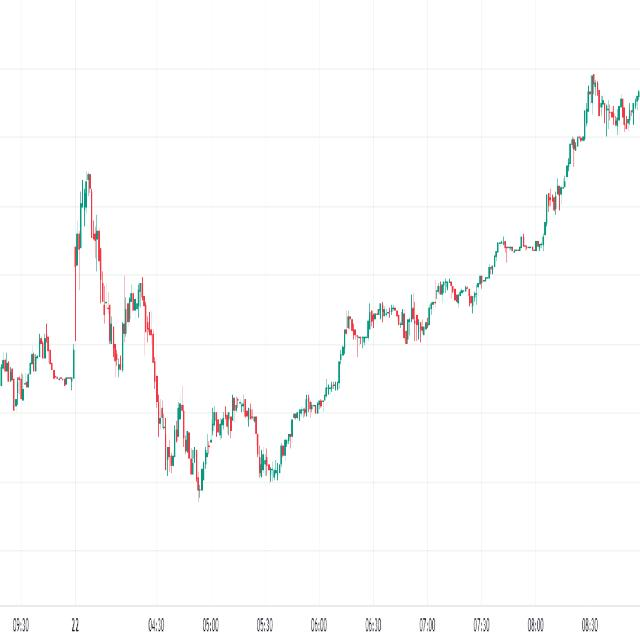Double-Bottom: (156, 361, 215, 514)
